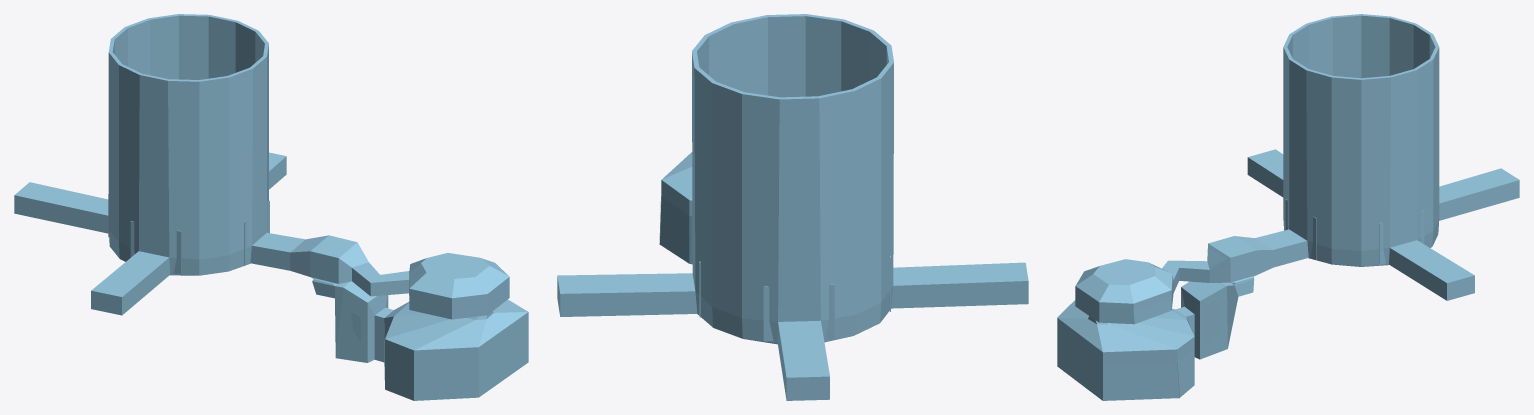
The model's file is BaseRoom+JumpRoom.fbx.
The picture shows the model from 3 angles, left to right: view 1: azimuth 30°, elevation 25°; view 2: azimuth 150°, elevation 25°; view 3: azimuth 270°, elevation 25°; orthographic projection. The views are drawn at different scales.
Visible parts, largest first — view 1: Door Frame; view 2: Door Frame; view 3: Door Frame.
Part boxes in pixels (x1,y1,x2,y2): Door Frame: (14, 14, 528, 400); Door Frame: (557, 14, 1028, 400); Door Frame: (1057, 14, 1519, 400).
Bounding box in the file's own units: 15456 × 11395 × 18448.
